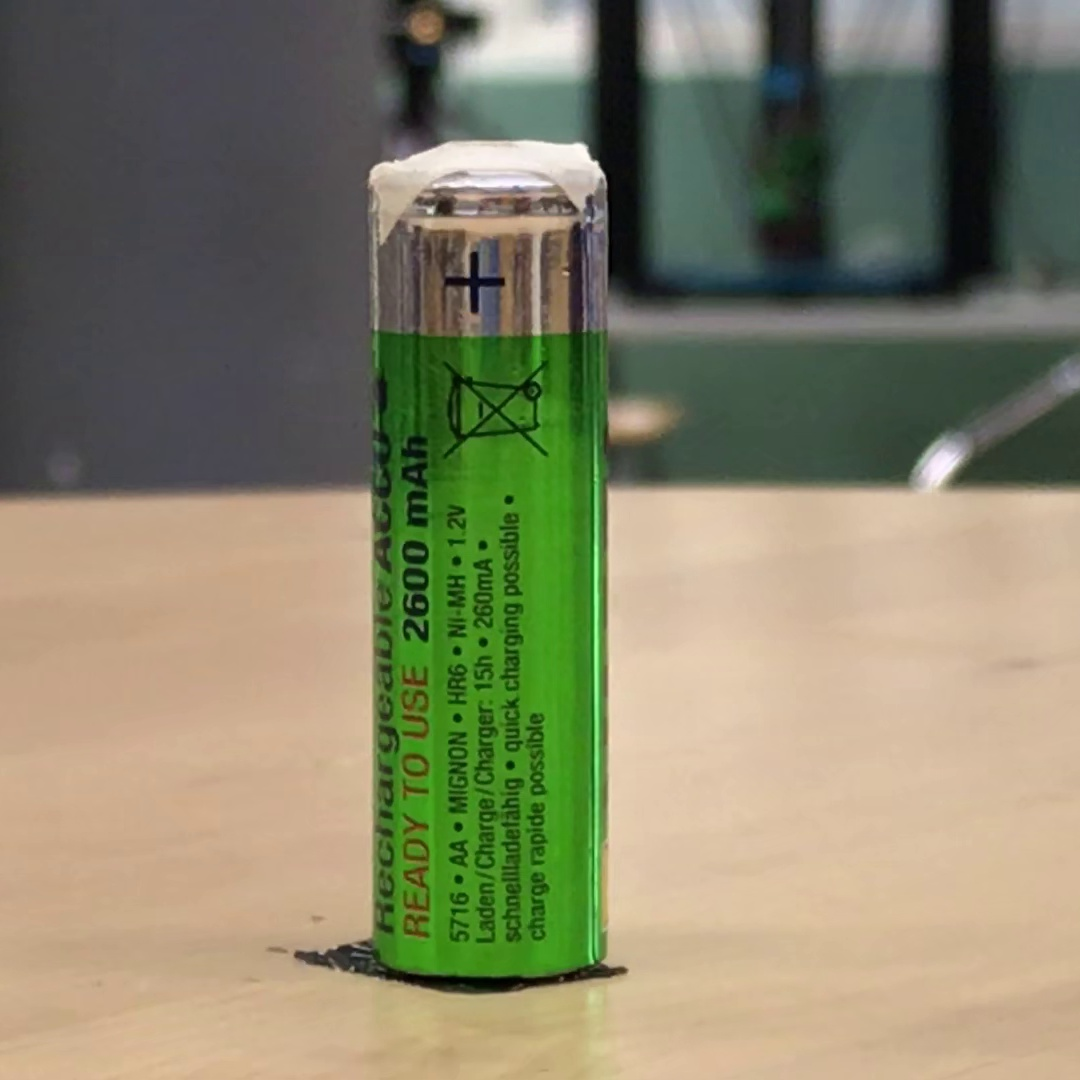keyword: (436, 656, 478, 715)
